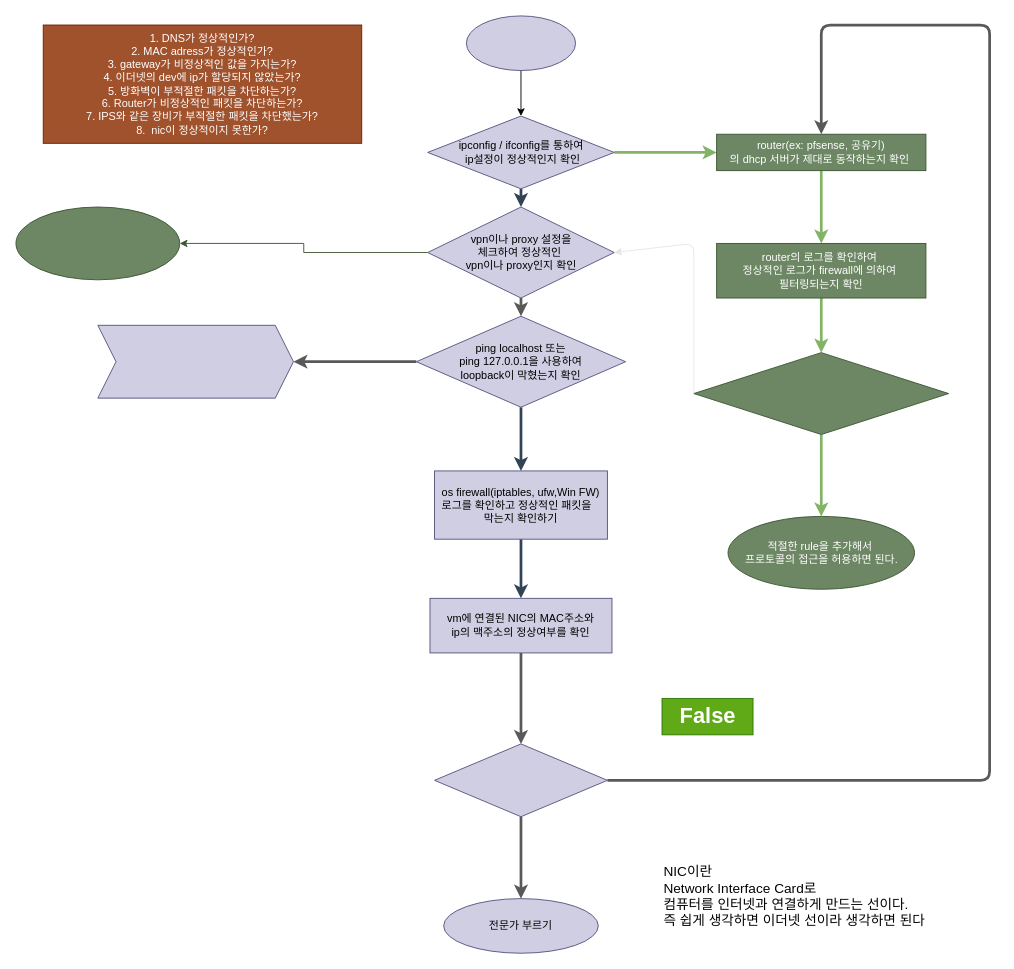
Some shapes in this 1014 by 969 pixel diagram are drawn without their labels. Here are the shapes that lost their labels. From the top down, the box of each, then its label:
(465, 15, 576, 71): ip 정상작동 못함
(15, 206, 180, 280): VPN이나 Proxy의 정상여부 확인하고 보안 담당자에게 연락
(97, 324, 293, 398): 원인 1. gateway의 비정상 2. firewall의 비정상적인 차단 3. router의 루프백 룰을 차단
(693, 352, 949, 435): TCP 프로토콜과 UDP프로토콜 두가지중 하나만 차단했는가?
(434, 743, 607, 817): static ip를 사용한다면 dhcp ip 사용해보기
